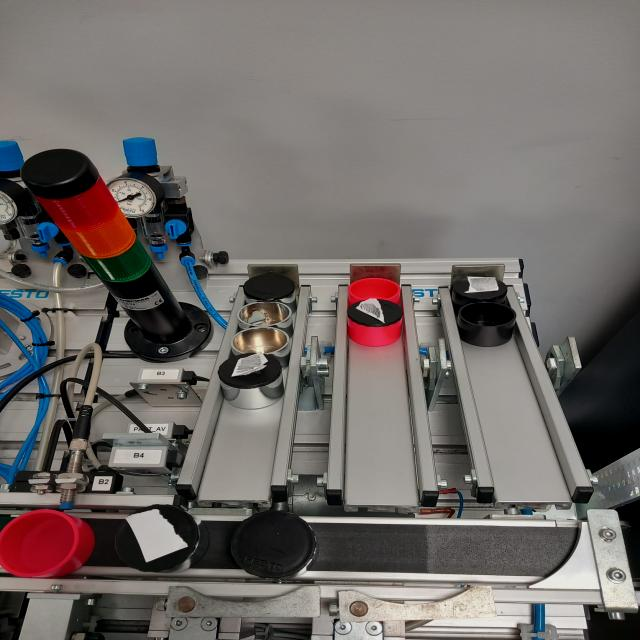NoLid: (0, 500, 97, 592), (459, 299, 521, 354), (238, 299, 300, 329), (232, 328, 290, 353), (351, 277, 404, 298)
Workpiece: (226, 507, 324, 579), (244, 272, 299, 299)
